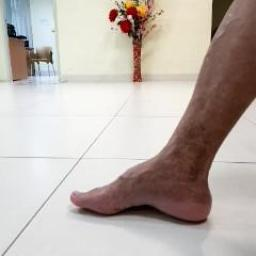Medial View -Right Foot-: (56, 124, 230, 234)
